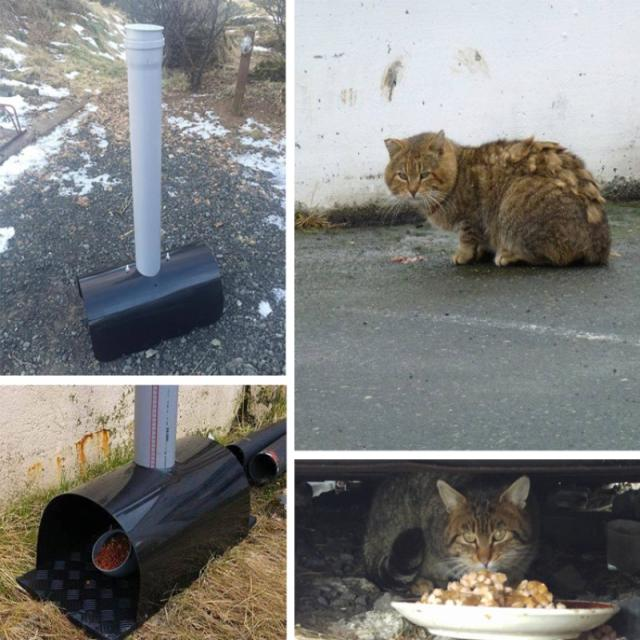cat: (385, 131, 611, 266), (364, 472, 539, 590)
